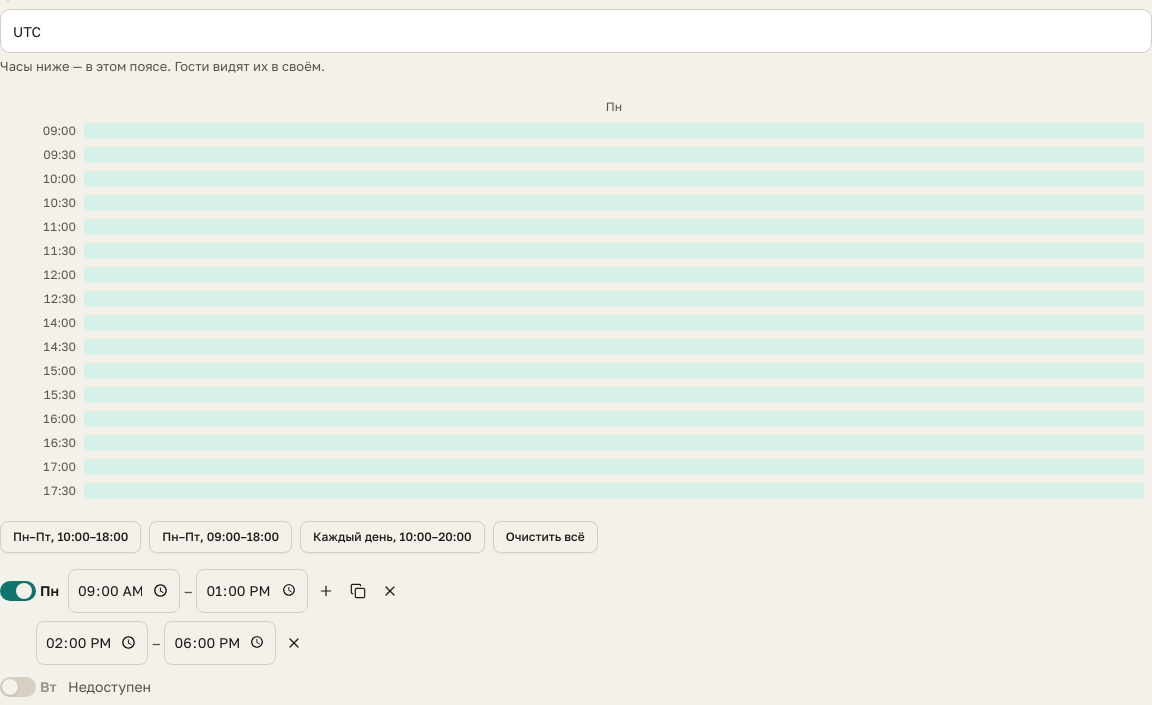
Test: AvailabilitySettingsForm › копирует интервалы дня на выбранные дни
Click the button named "Скопировать интервал: Пн" at (358, 590), box [344, 576, 372, 604]
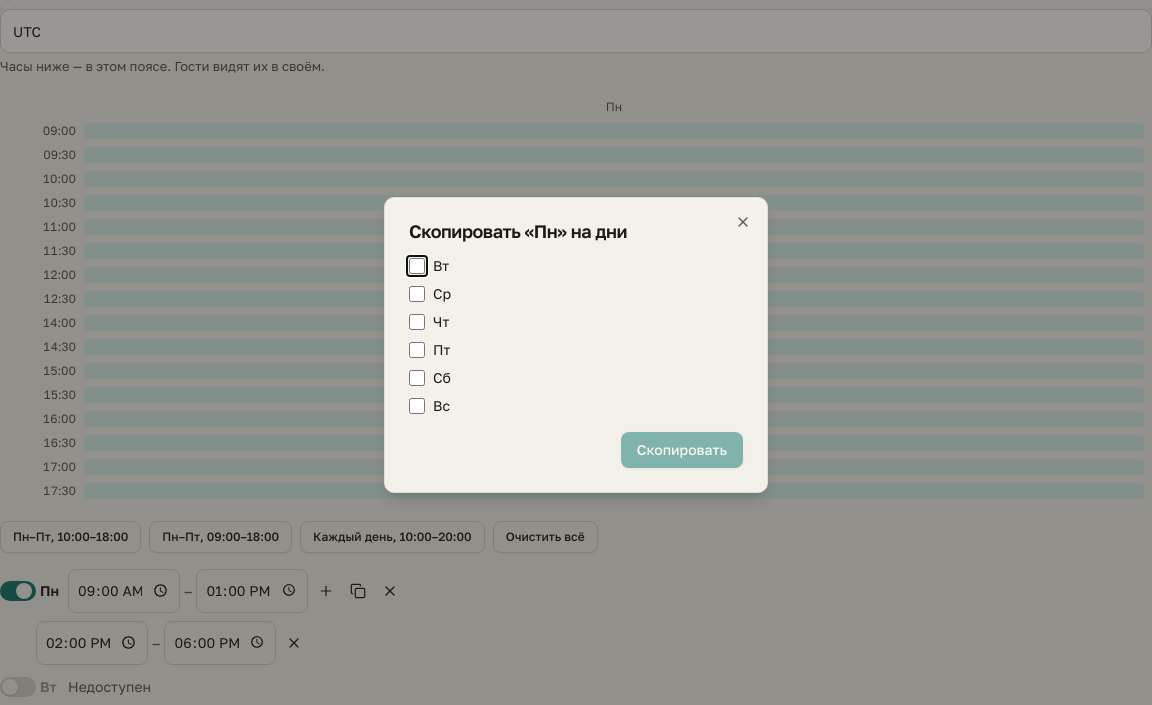
Click the checkbox labelled "Вт" at (417, 266), box [409, 258, 425, 274]
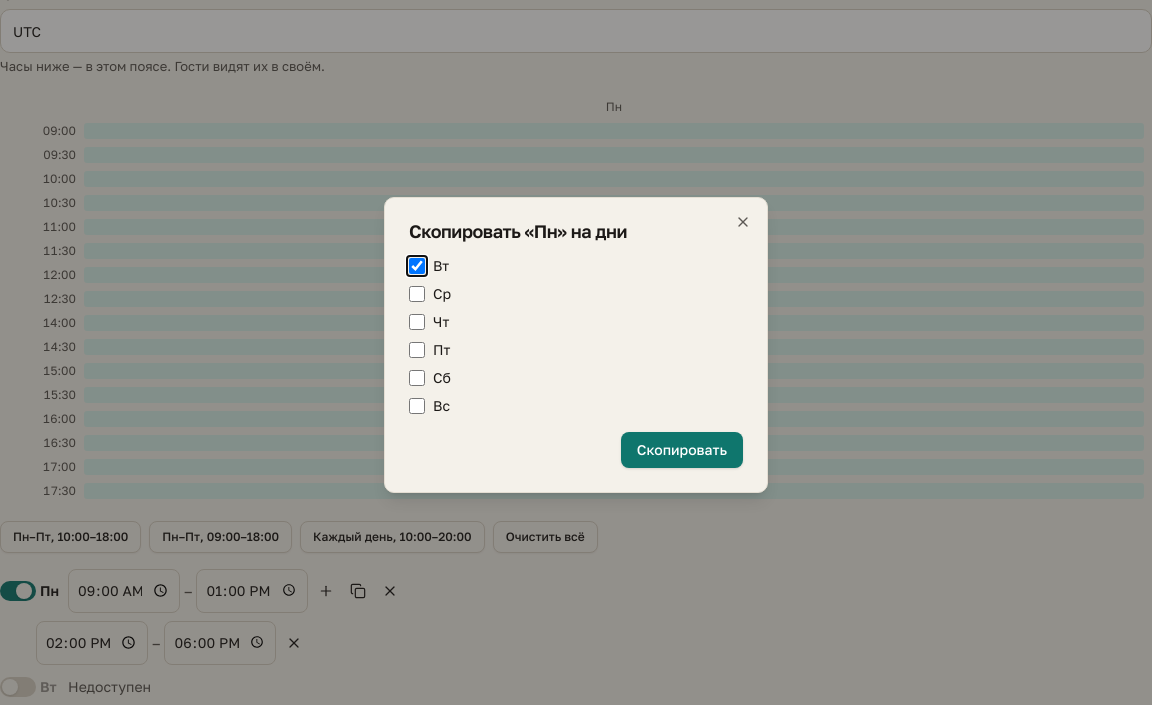
Click the button "Скопировать" at (682, 450), box [621, 432, 743, 468]
(page scrolled)
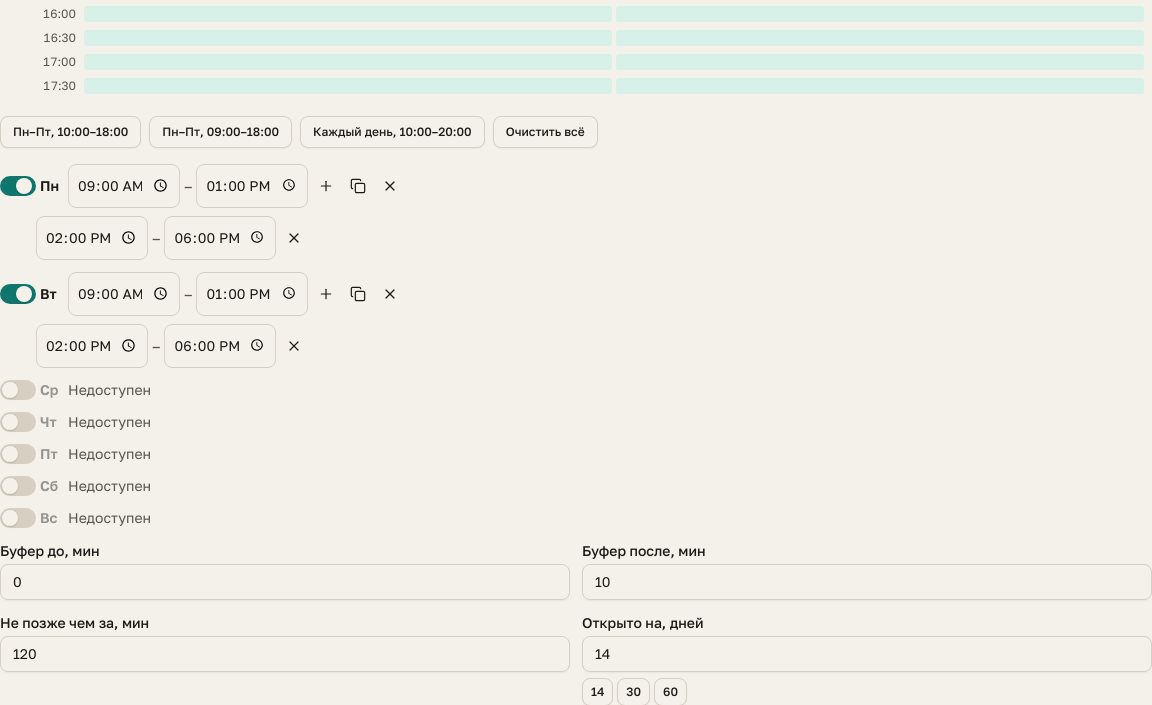
Expected: the time field named "Вт: начало 1" holds "09:00", [68, 272, 180, 316]
Expected: the time field named "Вт: начало 2" holds "14:00", [36, 324, 148, 368]
